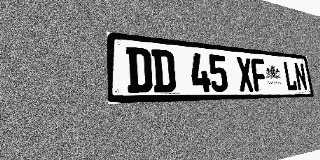4: (189, 52, 211, 92)
5: (208, 54, 229, 92)
D: (126, 47, 153, 93), (151, 49, 176, 93)
F: (250, 58, 268, 91)
L: (283, 61, 298, 91)
N: (293, 62, 308, 91)
X: (236, 57, 254, 92)
